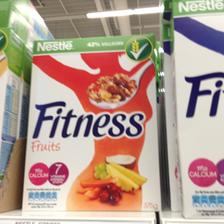Cerealien: (19, 32, 161, 212), (169, 0, 222, 216)
